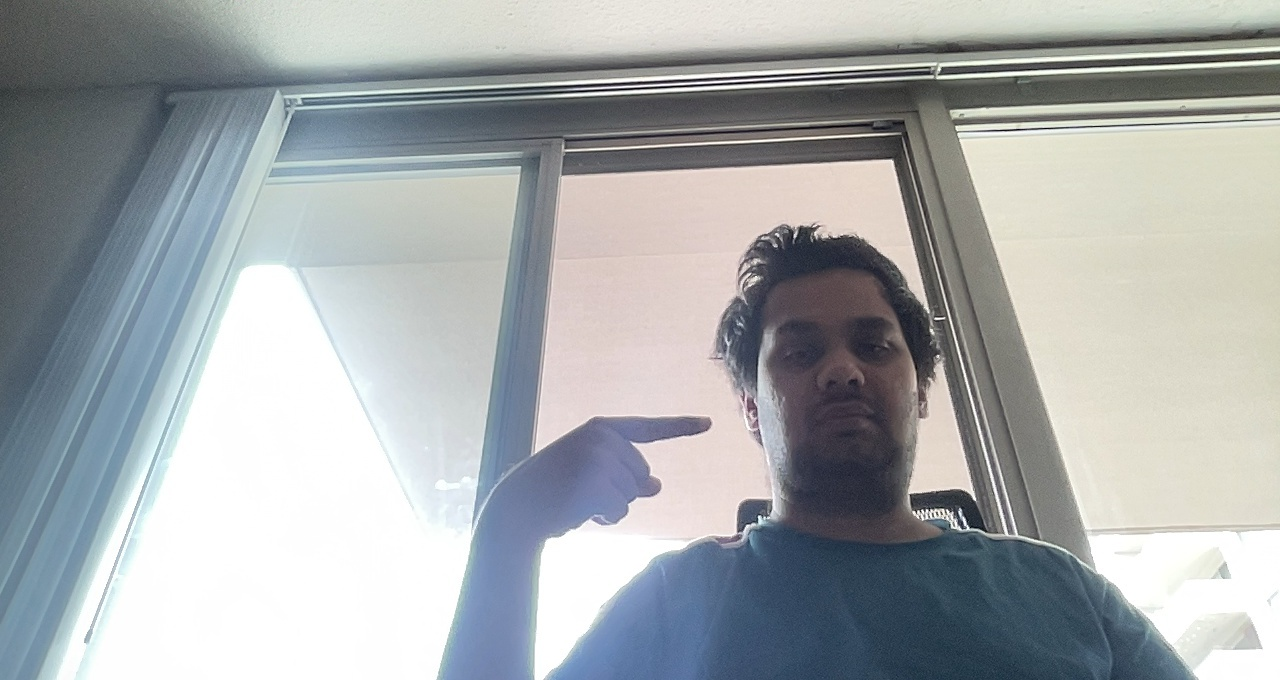fingerleft: (476, 405, 720, 535)
